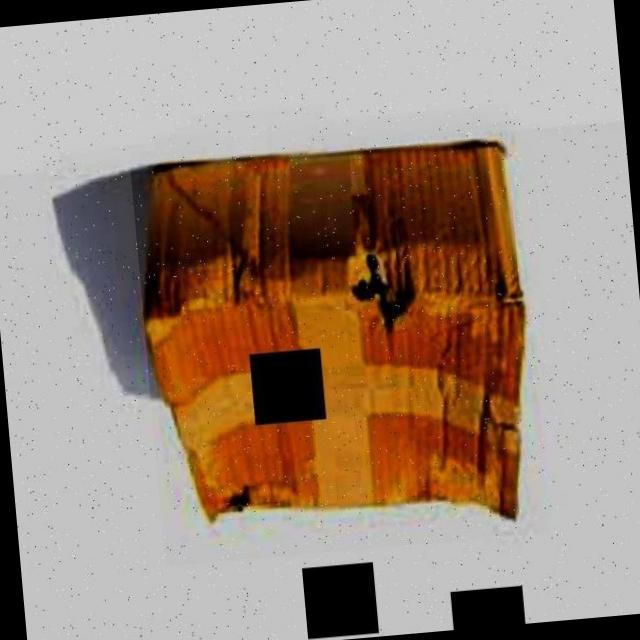box: (128, 112, 549, 566)
